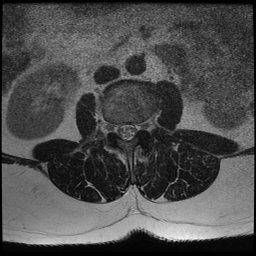CCS_normal: (123, 114, 130, 148)
LFS_normal: (138, 113, 145, 138)
LLS_normal: (130, 114, 138, 142)
RFS_normal: (108, 112, 116, 143)
RLS_normal: (116, 114, 123, 143)
